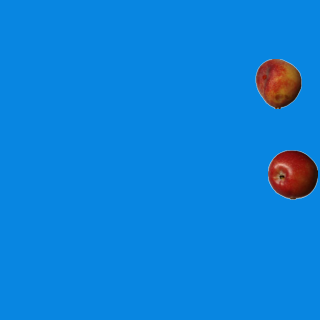Apple Braeburn: (267, 149, 317, 199)
Peach: (253, 58, 303, 108)
